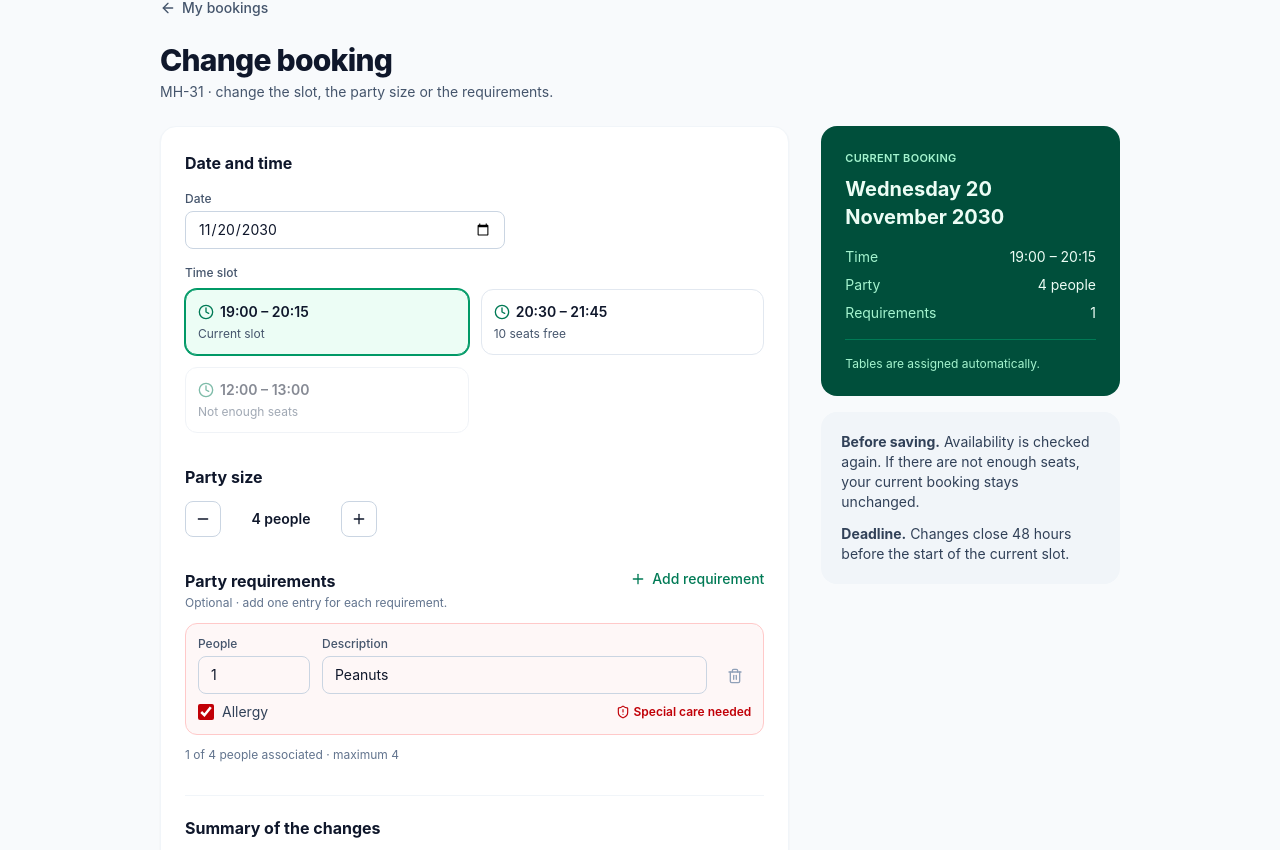
ChangeBooking › does not keep a requirement change after the original allergy value is restored
Expected: the field showing "Peanuts" is shown, [322,656,707,694]
Click the checkbox labelled "Allergy".
click(206, 712)  # box [198,704,214,720]
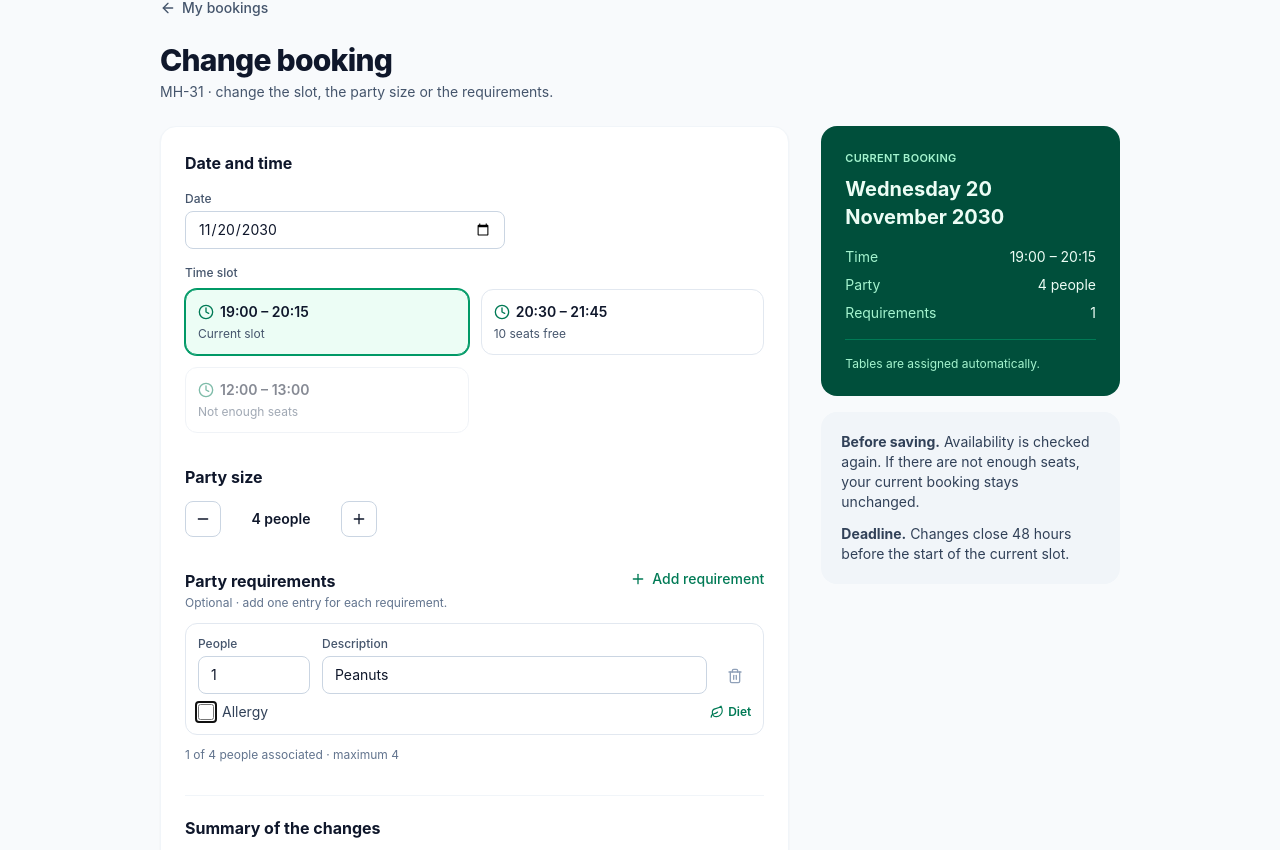
Click the checkbox labelled "Allergy".
click(206, 712)  # box [198,704,214,720]
(page scrolled)
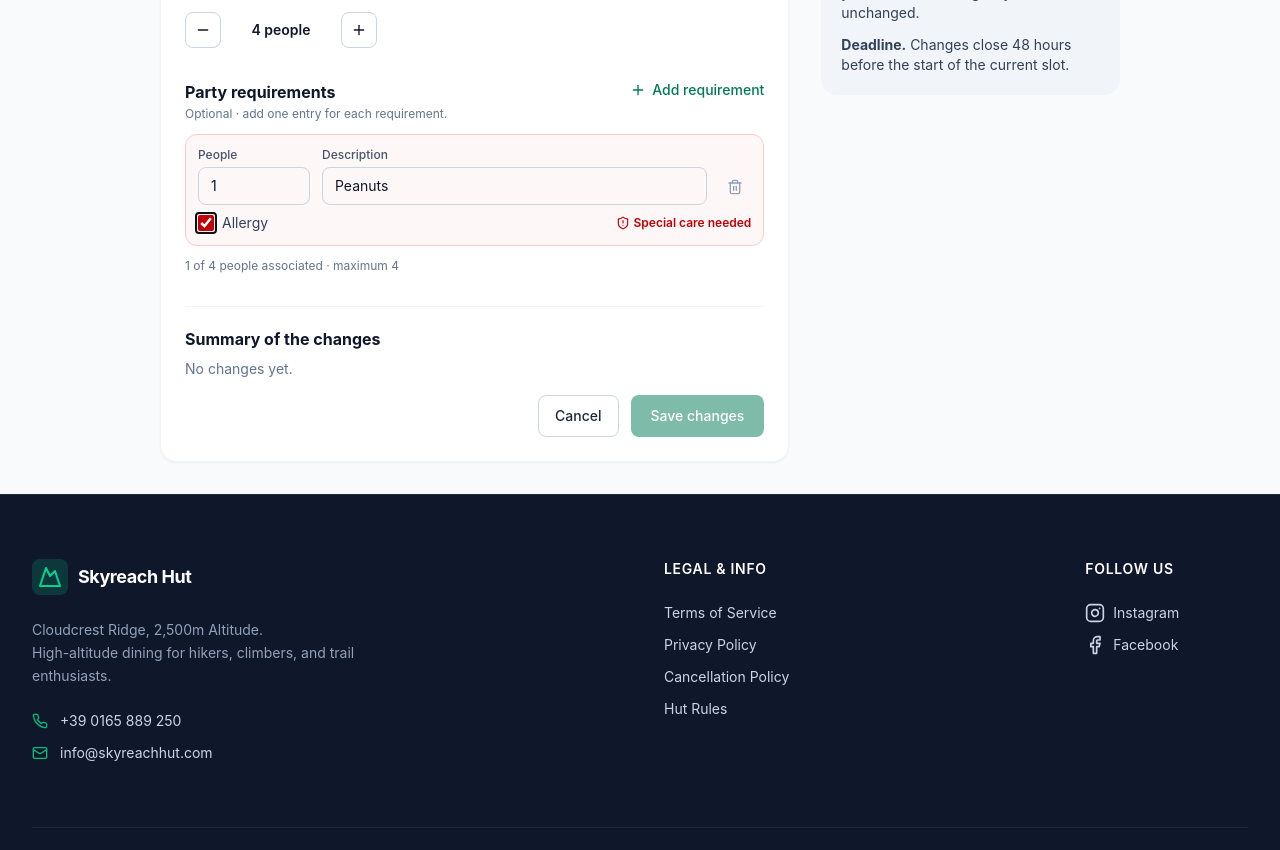
Result: the button "Save changes" is disabled at [630,395,764,437]
